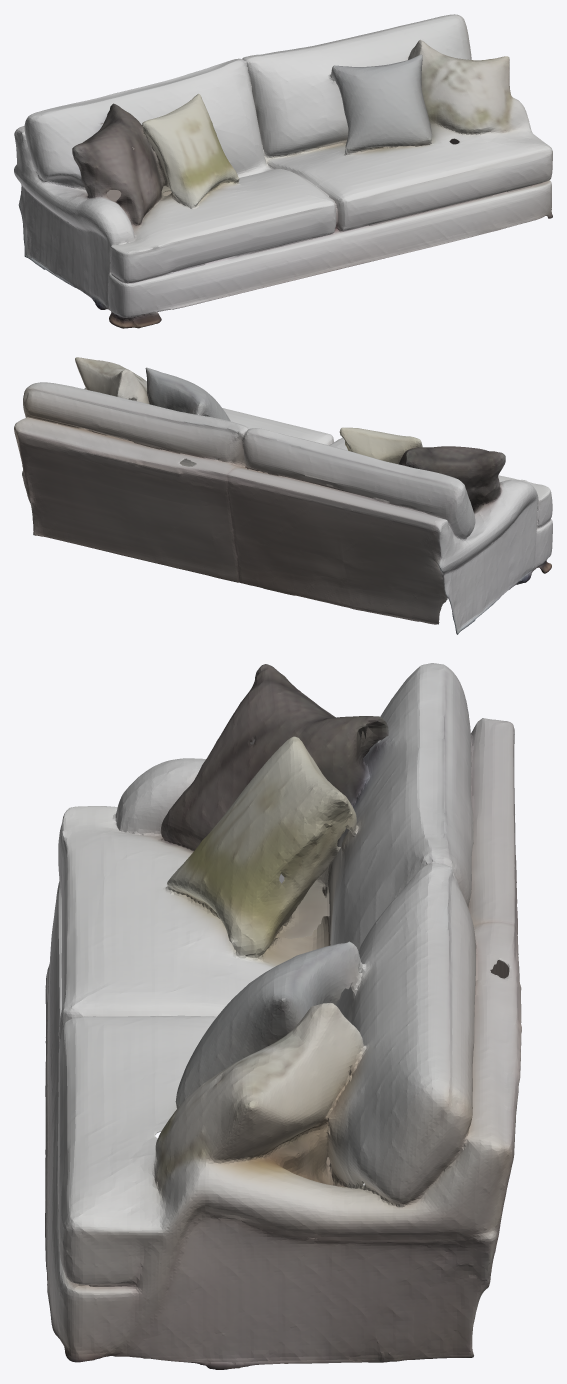
File: trellis.glb
3 views of the same model, one above another, from view 1: azimuth 30°, elevation 25°; view 2: azimuth 150°, elevation 25°; view 3: azimuth 270°, elevation 25° (orthographic). The views are drawn at different scales.
Visible parts, largest first — view 1: world; view 2: world; view 3: world.
Boxes of the visible parts, bbox=[...] form: world: bbox=[14, 14, 552, 328]; world: bbox=[14, 357, 552, 634]; world: bbox=[45, 663, 521, 1369].
Size of the model in its own units: 1 by 0.3347 by 0.4717.
